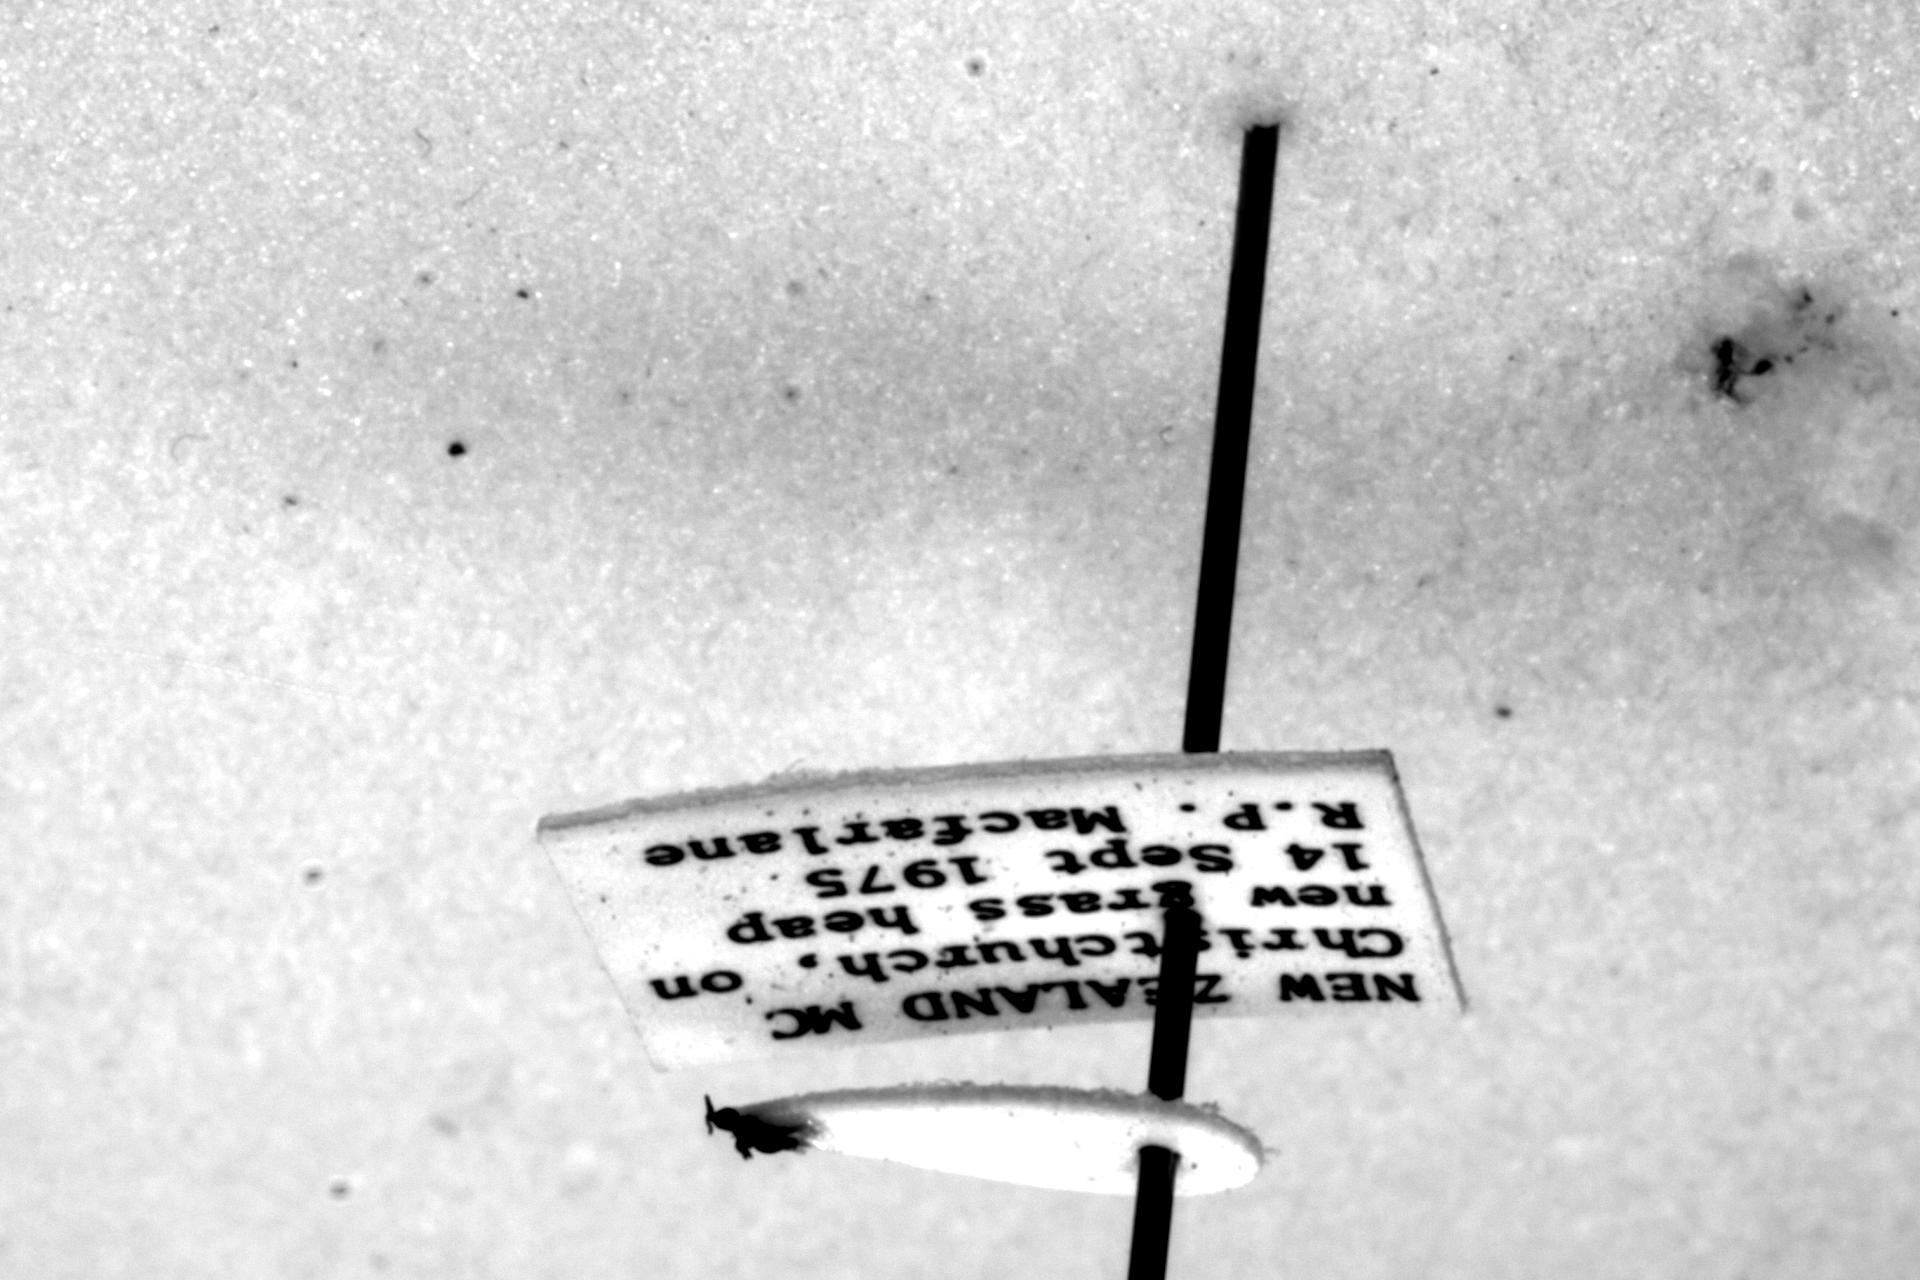typed_label: (540, 750, 1463, 1069)
